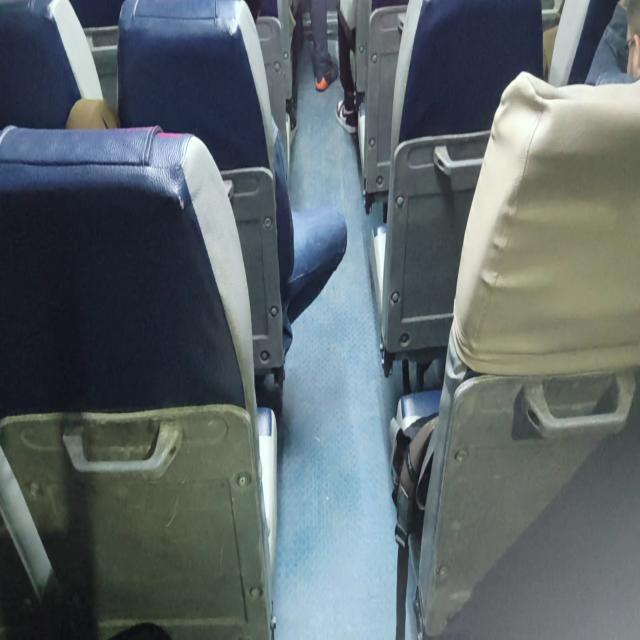person: (397, 1, 639, 635), (65, 0, 348, 390), (286, 0, 338, 132), (335, 0, 372, 134), (595, 0, 639, 85)
